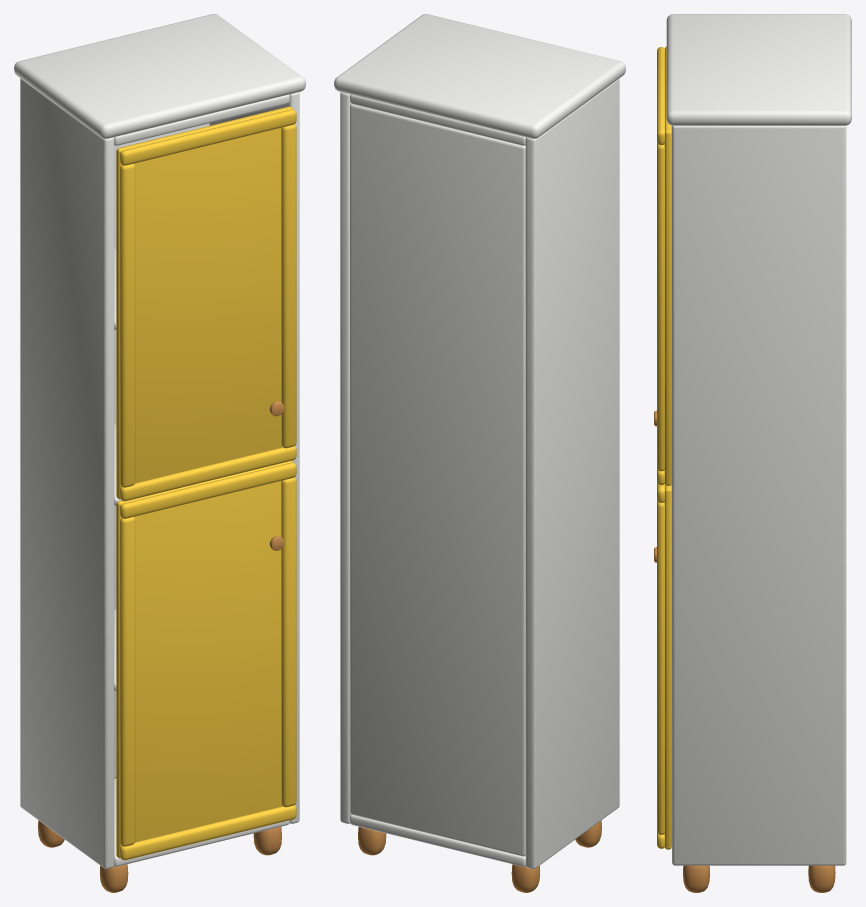
The model's file is armario_alto_portas_amarelo.glb.
3 renders of one model, left to right at view 1: azimuth 30°, elevation 25°; view 2: azimuth 150°, elevation 25°; view 3: azimuth 270°, elevation 25°, orthographic.
Visible parts, largest first — view 1: armario_alto_portas_amarelo, porta_1, porta_2; view 2: armario_alto_portas_amarelo; view 3: armario_alto_portas_amarelo, porta_2, porta_1.
Part boxes in pixels (x1,y1,x2,y2): armario_alto_portas_amarelo: (14, 14, 305, 892); porta_1: (116, 461, 296, 860); porta_2: (116, 106, 296, 501); armario_alto_portas_amarelo: (334, 14, 625, 892); armario_alto_portas_amarelo: (666, 14, 851, 892); porta_2: (654, 46, 671, 485); porta_1: (654, 482, 671, 849).
Size of the model in its own units: 0.44 by 1.6 by 0.3628.
1 material, 1 textured.
